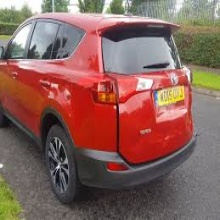no damage: (1, 12, 197, 205)
